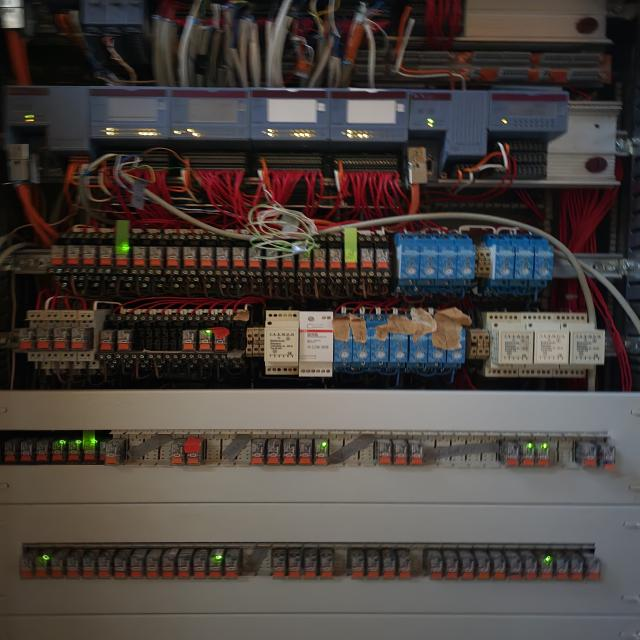Dimmer: (552, 313, 605, 378), (519, 312, 570, 377), (486, 313, 534, 377), (299, 311, 333, 377), (265, 310, 298, 374), (487, 233, 516, 293), (506, 233, 535, 292), (524, 233, 554, 287), (397, 233, 421, 287), (415, 235, 439, 287), (444, 314, 465, 373), (433, 235, 457, 286), (453, 234, 477, 285), (350, 314, 370, 374), (388, 315, 408, 374), (369, 315, 388, 375), (408, 314, 428, 370), (335, 312, 351, 374), (428, 313, 443, 373)
Relais: (576, 442, 596, 467), (599, 443, 616, 469), (105, 442, 124, 465), (297, 440, 313, 466), (282, 440, 297, 466), (502, 442, 518, 466), (443, 555, 459, 579), (408, 440, 423, 465), (314, 440, 328, 466), (382, 554, 397, 578), (176, 556, 192, 578), (377, 440, 391, 465), (586, 557, 601, 580), (131, 246, 147, 267), (393, 440, 407, 464), (540, 556, 554, 580), (248, 248, 263, 270), (72, 328, 87, 350), (3, 441, 18, 463), (185, 444, 200, 466), (34, 557, 49, 579), (523, 557, 538, 579), (250, 441, 264, 464), (266, 441, 280, 464), (520, 442, 534, 465), (350, 555, 364, 578), (148, 246, 164, 266), (280, 248, 296, 268), (53, 328, 68, 349), (200, 246, 214, 268), (312, 248, 326, 270), (213, 330, 227, 352), (171, 444, 185, 466), (113, 557, 127, 579), (225, 556, 239, 578), (272, 556, 286, 578), (429, 556, 443, 578), (477, 557, 491, 579), (492, 557, 506, 579), (509, 557, 523, 579), (555, 558, 569, 580), (166, 246, 181, 266), (36, 328, 51, 348), (288, 555, 301, 578), (319, 555, 332, 578), (398, 555, 411, 578), (51, 244, 65, 265), (182, 246, 196, 267), (35, 441, 49, 462), (52, 441, 66, 462), (50, 558, 64, 579), (130, 557, 144, 578), (344, 248, 357, 270), (82, 558, 95, 580), (304, 556, 317, 578), (367, 556, 380, 578), (83, 245, 97, 265), (216, 247, 230, 267), (328, 249, 342, 269), (116, 330, 130, 350), (19, 558, 33, 578), (66, 558, 80, 578), (536, 443, 548, 466), (115, 246, 128, 267), (232, 247, 245, 268), (20, 441, 33, 462), (98, 557, 111, 578), (146, 557, 159, 578), (162, 557, 175, 578), (209, 556, 222, 577), (462, 556, 474, 578), (571, 558, 583, 580), (67, 245, 80, 265), (99, 245, 112, 265), (265, 249, 278, 269), (101, 330, 114, 350), (183, 330, 196, 350), (83, 440, 96, 460), (192, 557, 205, 577), (200, 330, 212, 351), (68, 441, 80, 462), (19, 329, 32, 348), (361, 248, 373, 268), (376, 248, 388, 268), (299, 250, 311, 268), (99, 442, 106, 460)
SPS-System -Steuerungskomponente-: (170, 86, 250, 140), (250, 88, 330, 142), (89, 86, 170, 138), (331, 88, 409, 142), (5, 84, 90, 133), (410, 89, 490, 129), (490, 90, 568, 131)
Schaltkasten: (2, 0, 640, 640)
Verbinder: (469, 329, 490, 360), (246, 328, 264, 356), (475, 246, 491, 277)
